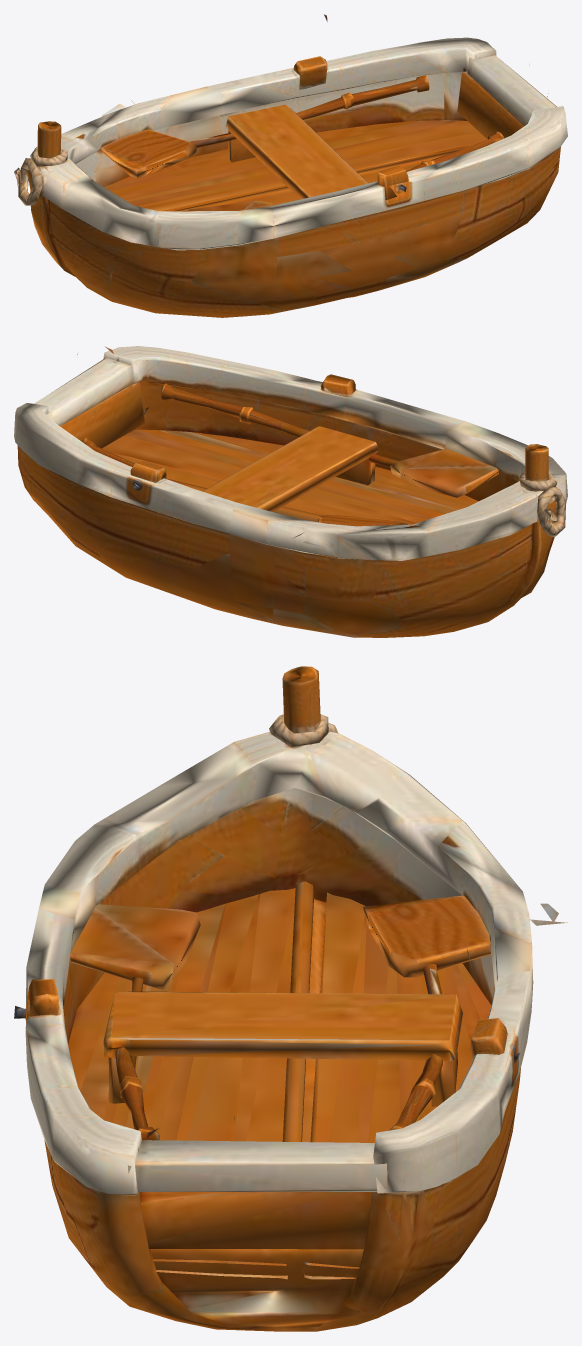
File: boat.glb
3 views of the same model, one above another, from view 1: azimuth 30°, elevation 25°; view 2: azimuth 150°, elevation 25°; view 3: azimuth 270°, elevation 25° (orthographic). The views are drawn at different scales.
Size of the model in its own units: 1 by 0.4184 by 0.5747.
Materials: 1 (1 with a texture image).
